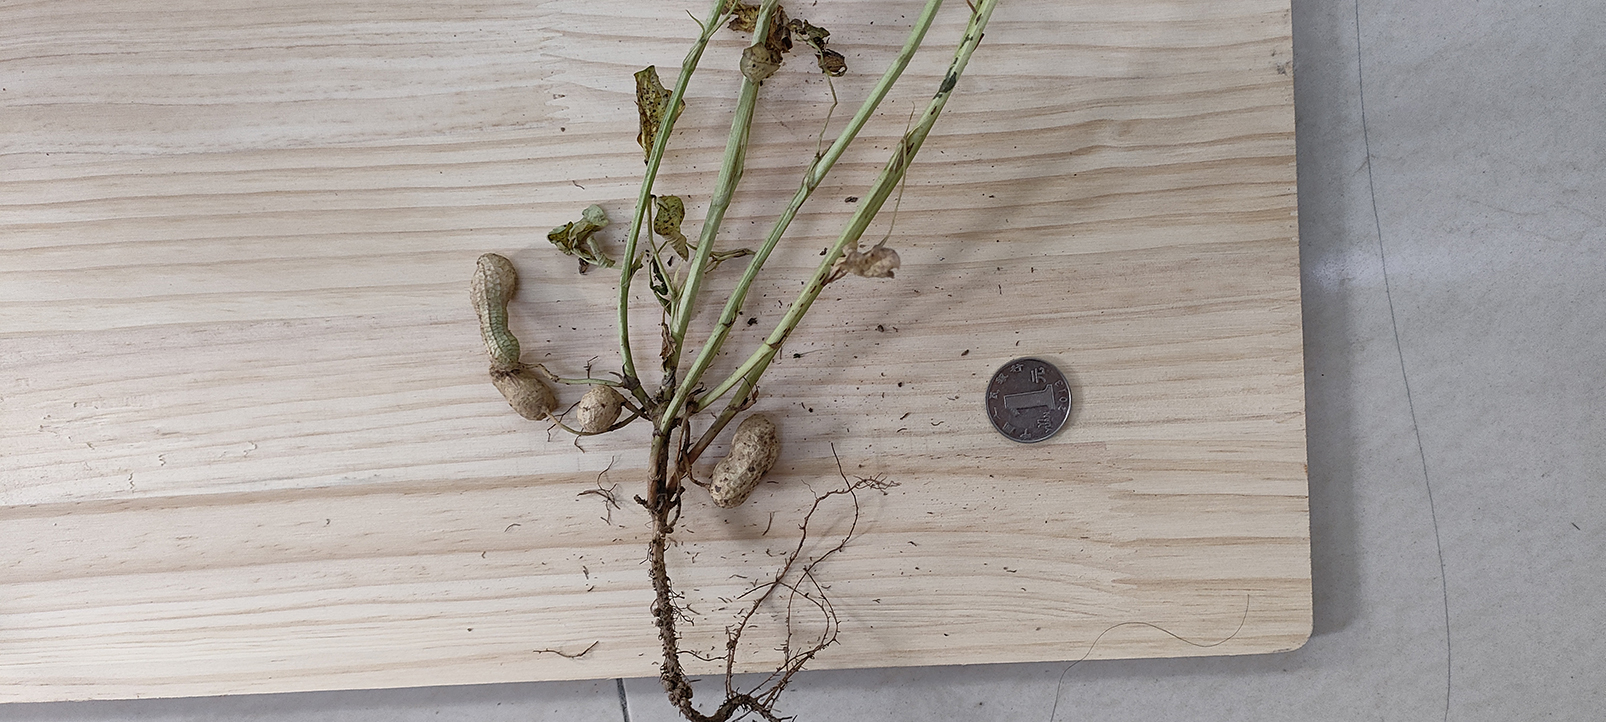h: (468, 253, 524, 373), (708, 415, 778, 506), (489, 369, 559, 422), (575, 385, 622, 434)
